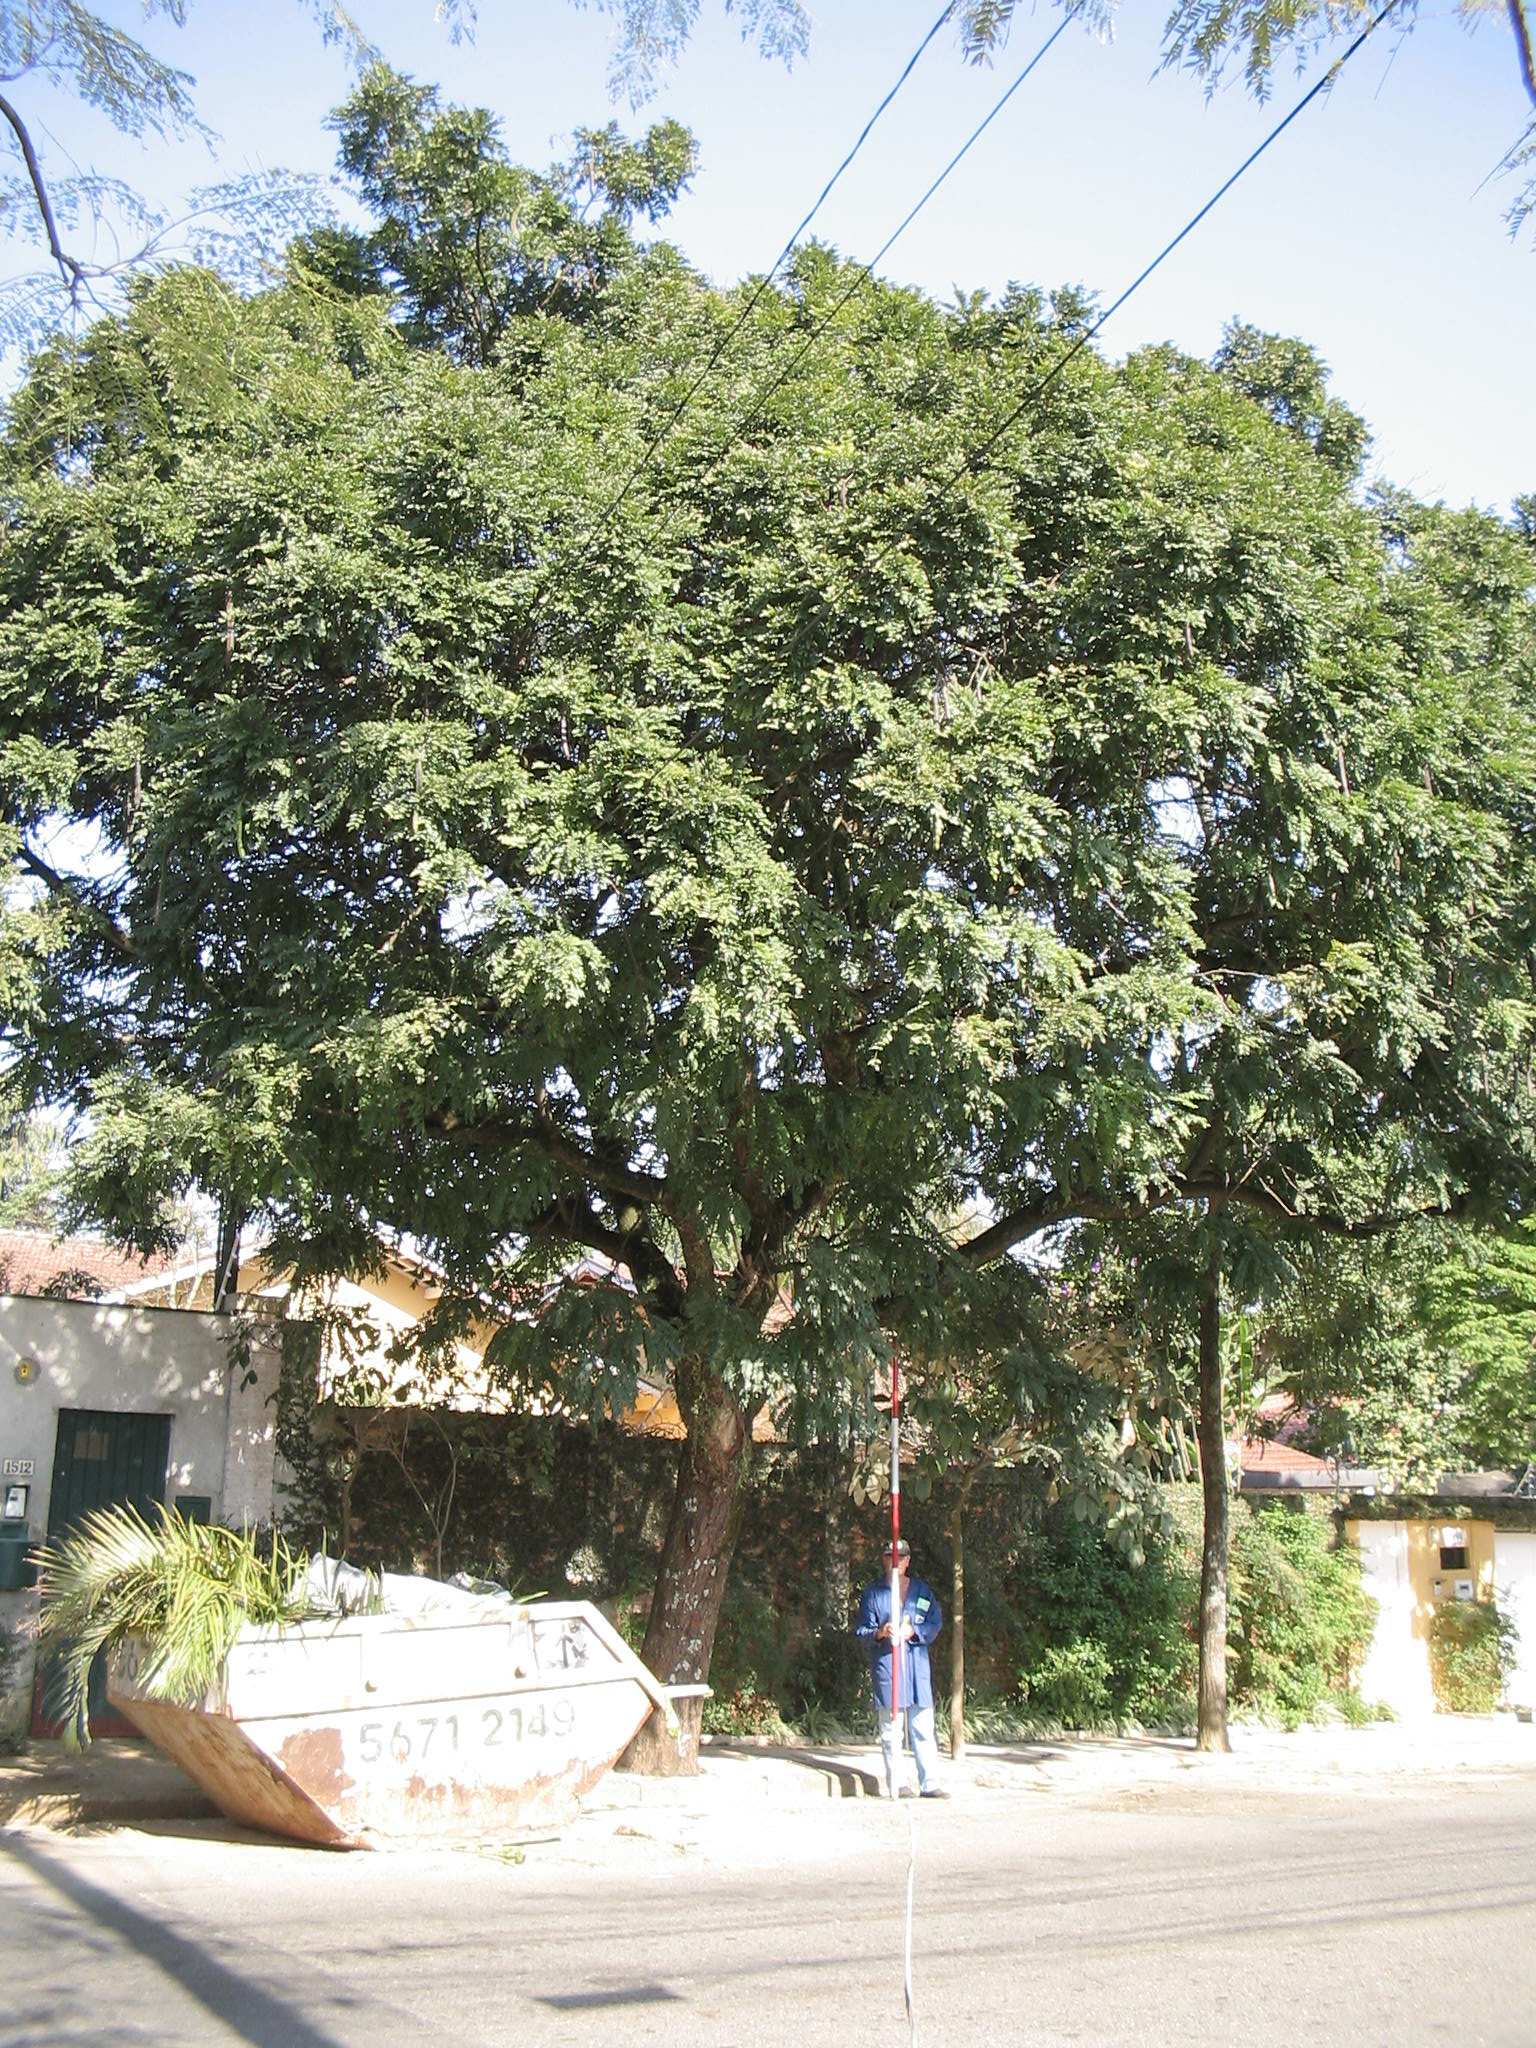crown: (6, 63, 1492, 1384)
stem: (608, 1413, 800, 1775)
stick: (854, 1363, 929, 1801)
tree: (3, 61, 1496, 1775)
